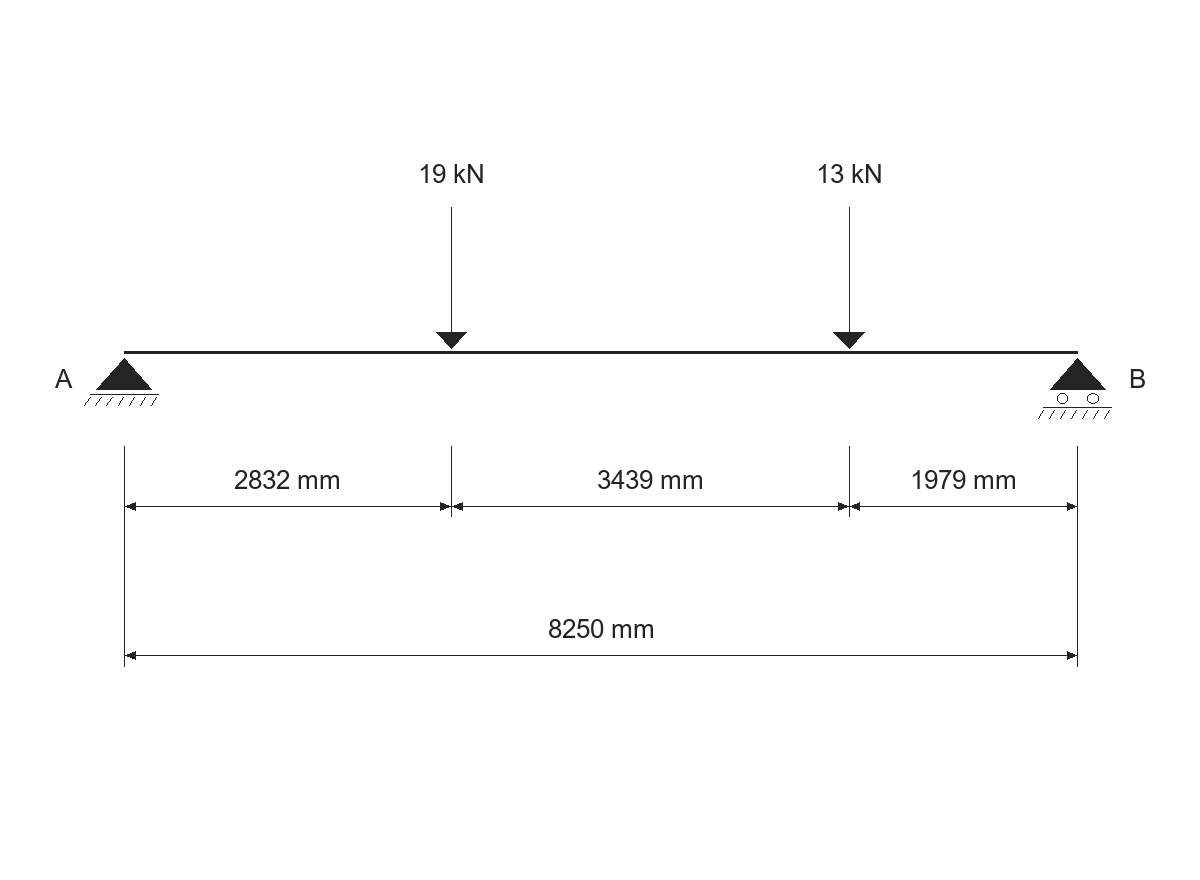pin_support: (84, 358, 159, 406)
point_load: (833, 207, 865, 349), (436, 207, 467, 349)
roller_support: (1038, 358, 1112, 419)
